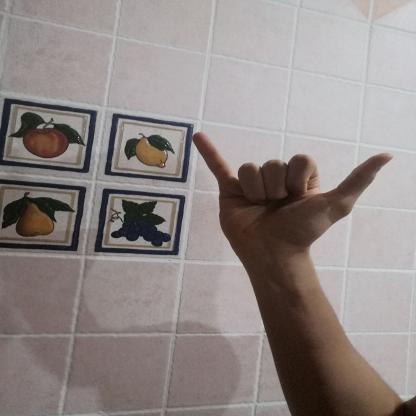YA: (175, 122, 406, 272)
